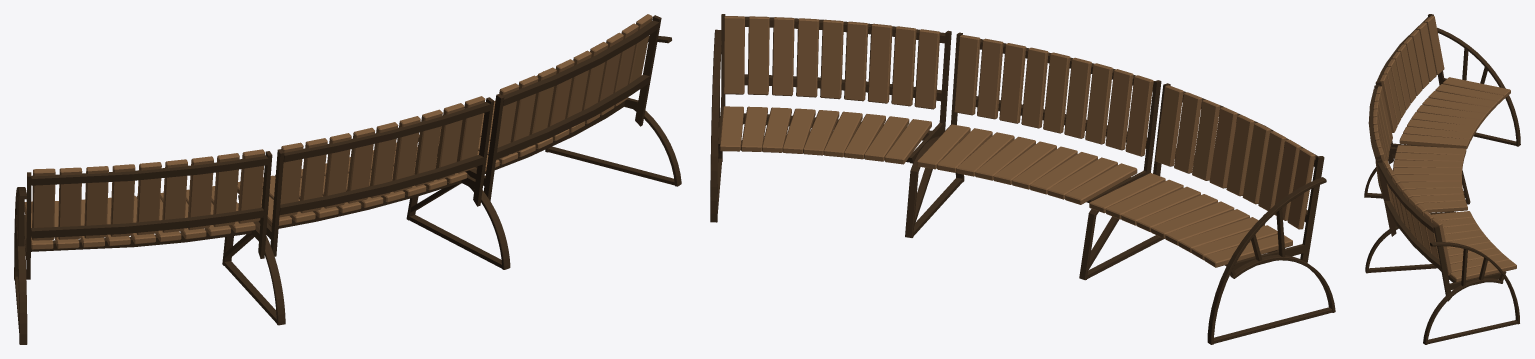
File: bench.obj
The picture shows the model from 3 angles, left to right: view 1: azimuth 30°, elevation 25°; view 2: azimuth 150°, elevation 25°; view 3: azimuth 270°, elevation 25°; orthographic projection. The views are drawn at different scales.
Parts seen in each view (by area): view 1: 2, 3, 1, 20, 9, 19, 18, 79, 81, 77, 73, 75 (+28 smaller); view 2: 19, 20, 18, 29, 31, 33, 35, 27, 25, 37, 23, 39 (+51 smaller); view 3: 18, 19, 3, 68, 2, 20, 22, 84, 70, 76, 80, 83 (+45 smaller).
Part boxes in pixels (<box>): 2: <box>31,74,649,238</box>; 3: <box>31,20,659,185</box>; 1: <box>31,101,624,251</box>; 20: <box>406,174,510,269</box>; 9: <box>222,203,285,325</box>; 19: <box>14,187,27,344</box>; 18: <box>545,36,681,186</box>; 79: <box>84,166,108,238</box>; 81: <box>58,167,82,239</box>; 77: <box>110,164,135,236</box>; 73: <box>162,159,187,232</box>; 75: <box>136,162,161,234</box>; 19: <box>1207,177,1335,344</box>; 20: <box>905,136,964,237</box>; 18: <box>710,29,722,222</box>; 29: <box>820,19,843,99</box>; 31: <box>844,21,868,101</box>; 33: <box>867,23,892,103</box>; 35: <box>891,26,916,106</box>; 27: <box>796,18,819,97</box>; 25: <box>772,17,794,96</box>; 37: <box>914,29,940,109</box>; 23: <box>747,16,769,95</box>; 39: <box>954,34,980,115</box>; 18: <box>1423,242,1519,344</box>; 19: <box>1437,27,1520,146</box>; 3: <box>1368,17,1435,232</box>; 68: <box>1399,134,1469,149</box>; 2: <box>1375,160,1441,270</box>; 20: <box>1365,226,1437,273</box>; 22: <box>1449,259,1516,282</box>; 84: <box>1442,77,1510,98</box>; 70: <box>1403,126,1473,141</box>; 76: <box>1416,105,1486,122</box>; 80: <box>1428,91,1497,110</box>; 83: <box>1424,15,1444,74</box>.
Size of the model in its own units: 364 by 87.99 by 109.
